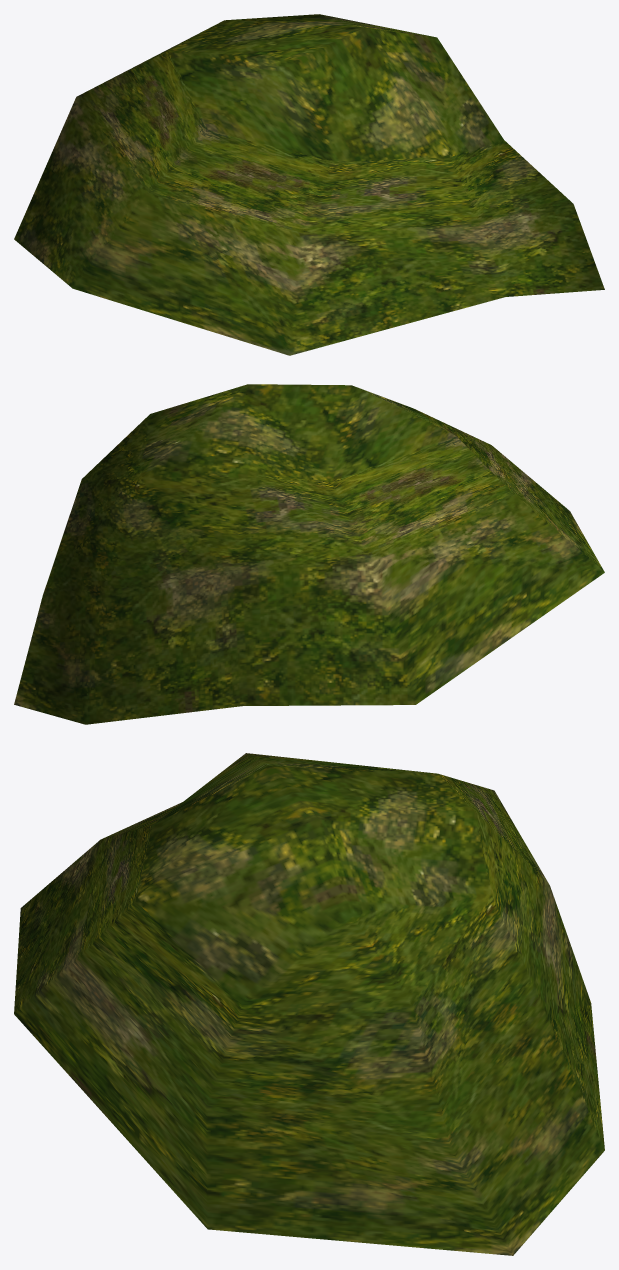
The model's file is OVERHILL_A_01_BR_ROCK202.fbx.
3 views of the same model, one above another, from view 1: azimuth 30°, elevation 25°; view 2: azimuth 150°, elevation 25°; view 3: azimuth 270°, elevation 25° (orthographic). The views are drawn at different scales.
Parts seen in each view (by area): view 1: OVERHILL_A_01_BR_ROCK202; view 2: OVERHILL_A_01_BR_ROCK202; view 3: OVERHILL_A_01_BR_ROCK202.
Part boxes in pixels (box(x1,y1,x2,y2)): OVERHILL_A_01_BR_ROCK202: box(14, 14, 604, 355); OVERHILL_A_01_BR_ROCK202: box(14, 384, 604, 724); OVERHILL_A_01_BR_ROCK202: box(14, 753, 604, 1255).
Bounding box in the file's own units: 10106 × 5825 × 8793.
Materials: 1 (1 with a texture image).
